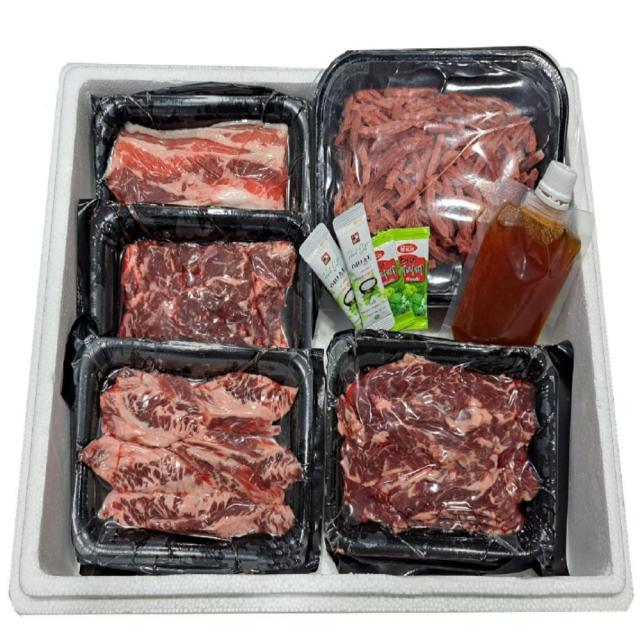beef: (342, 368, 521, 526), (87, 203, 286, 340), (111, 366, 278, 520), (104, 136, 291, 226)
